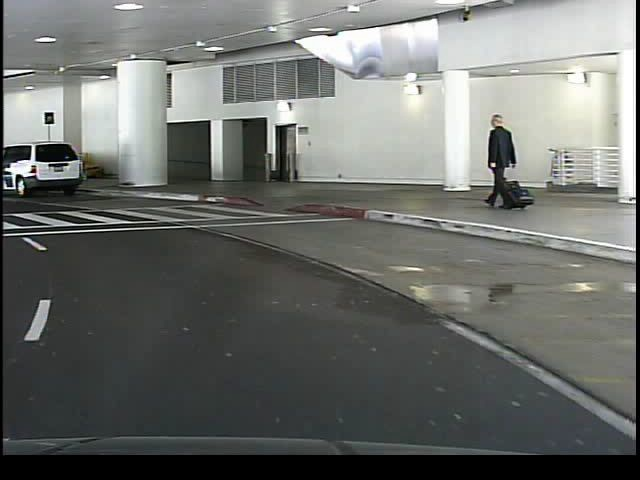person: (476, 109, 511, 213)
